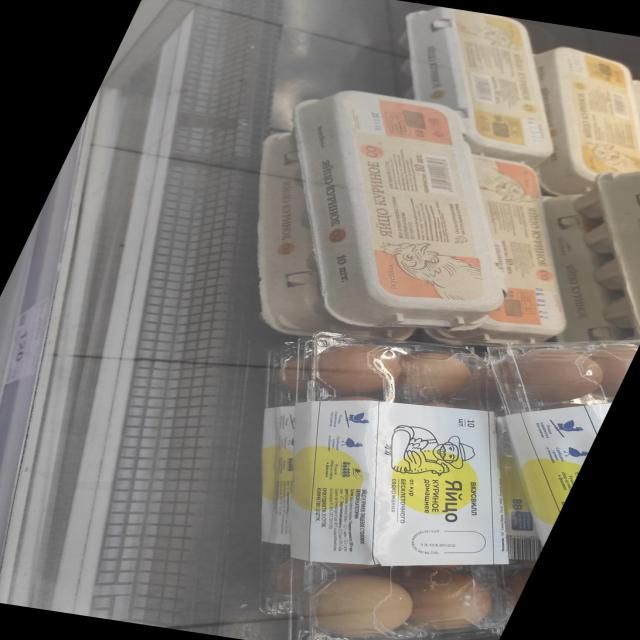organic waste: (202, 75, 594, 340)
